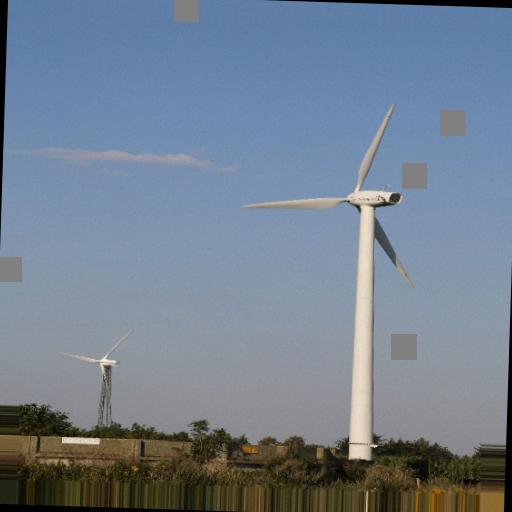wind turbine: (240, 101, 416, 459), (58, 328, 132, 428)
